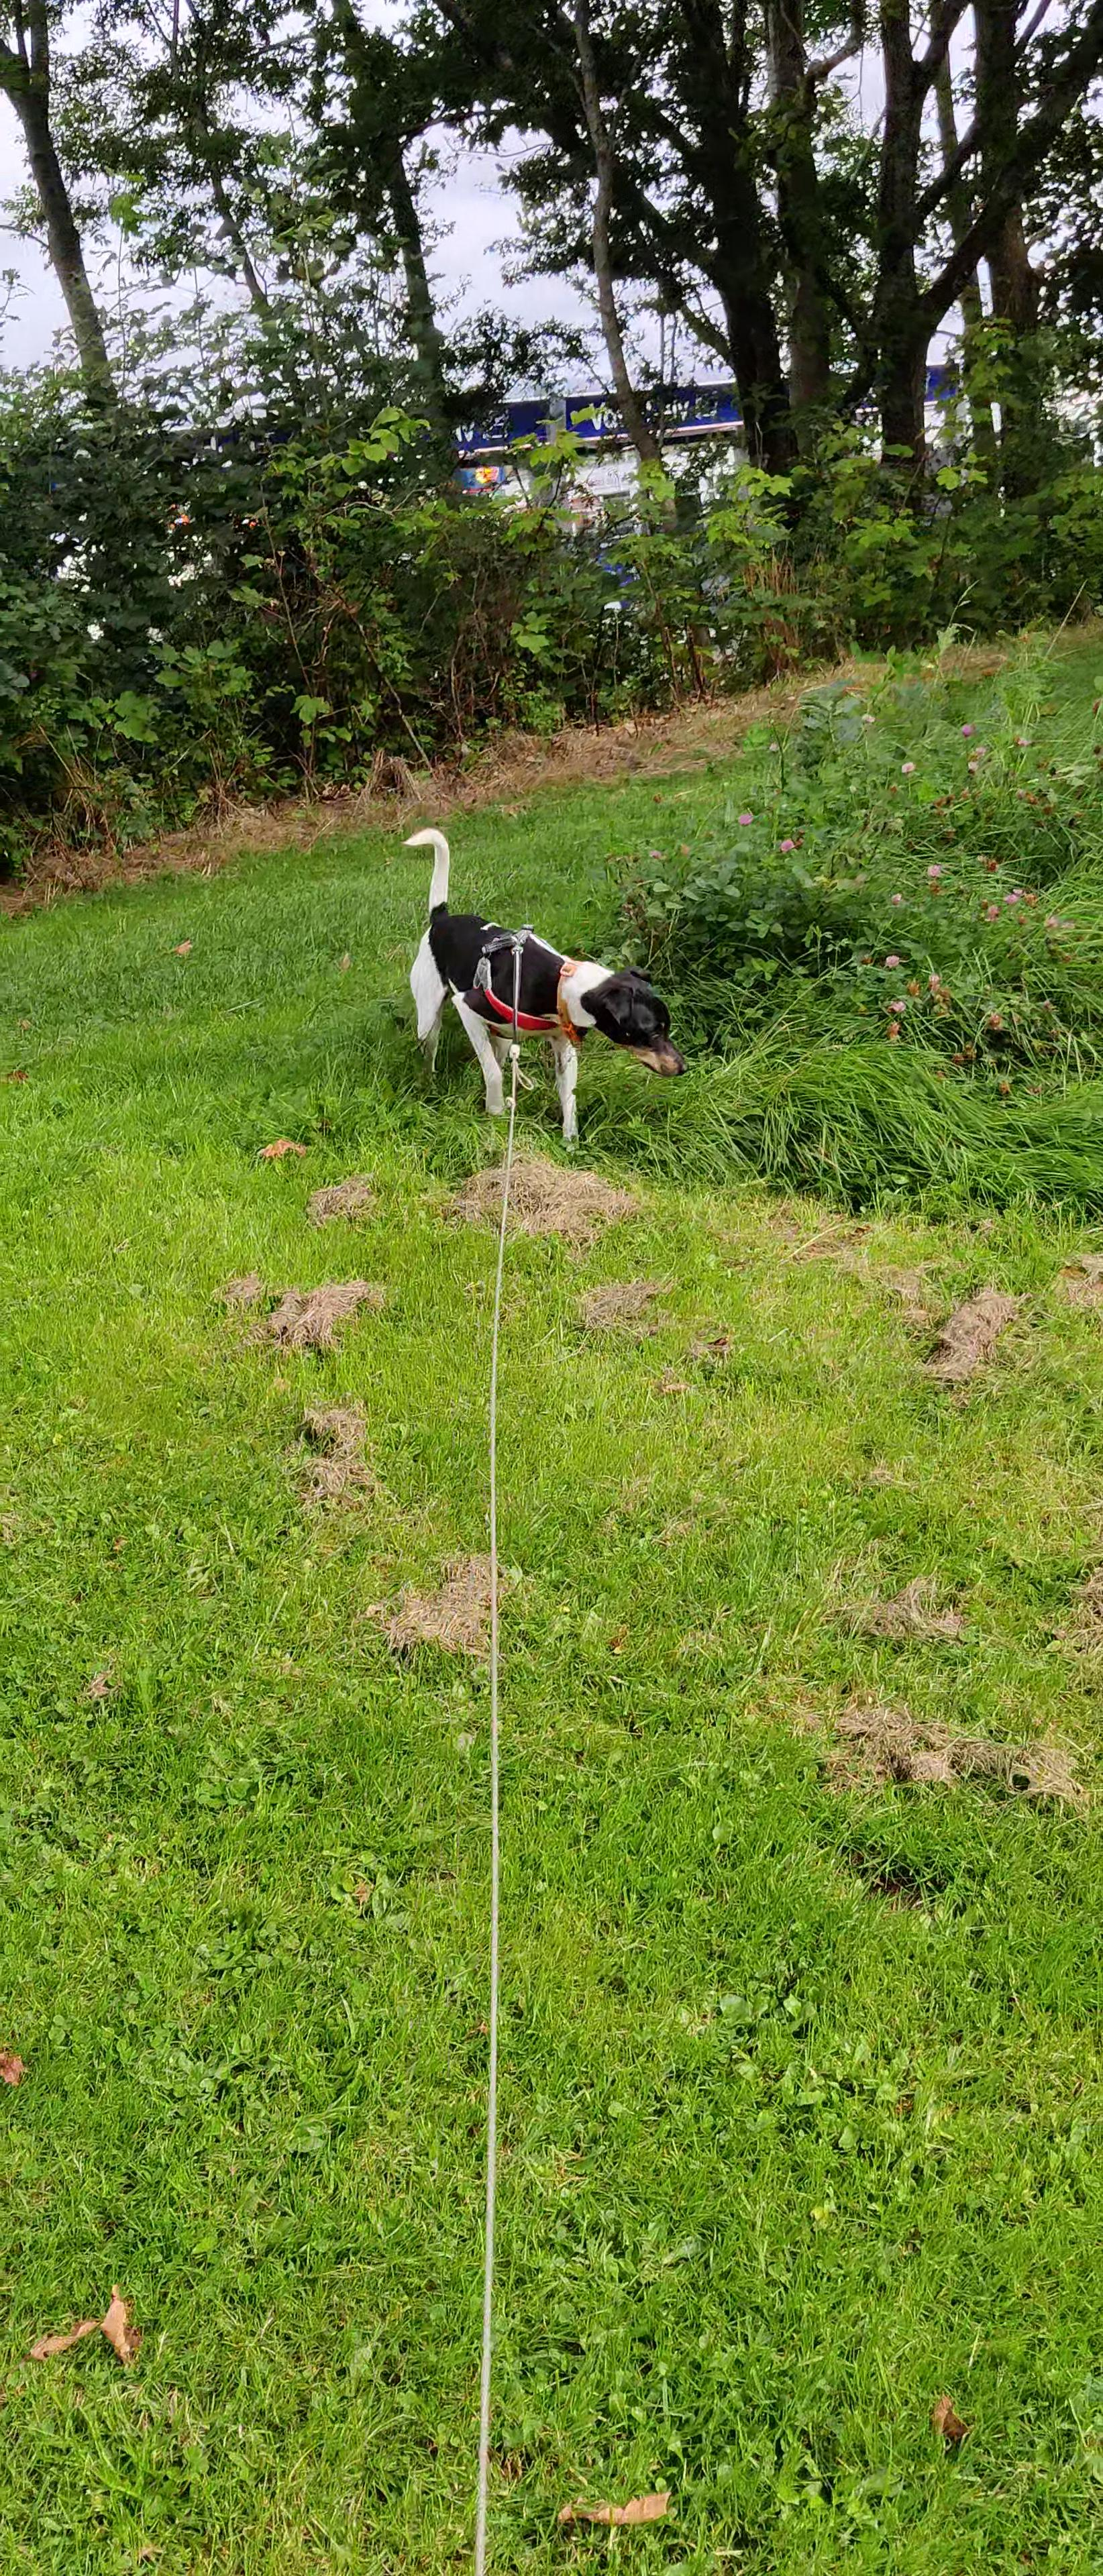Dog: (399, 823, 690, 1158)
